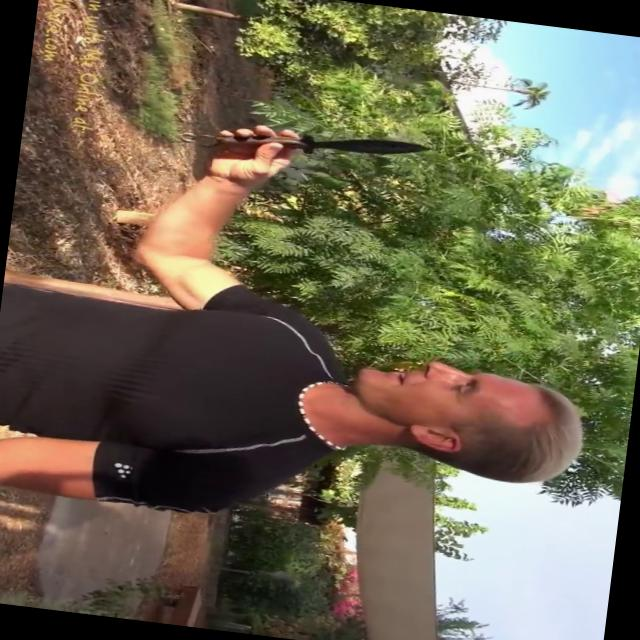knife: (203, 113, 444, 182)
